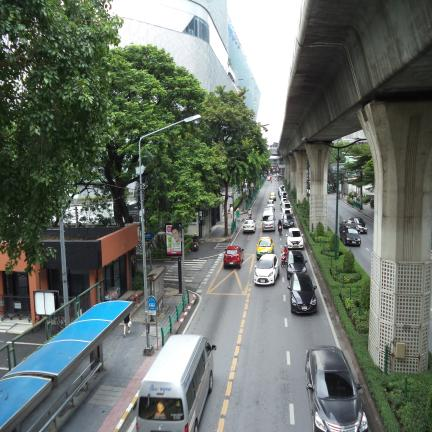car: (305, 346, 368, 432), (288, 272, 317, 313), (254, 254, 279, 285), (287, 250, 307, 279), (223, 246, 244, 268), (286, 228, 303, 249), (350, 217, 368, 233), (243, 219, 256, 233), (282, 213, 294, 228), (281, 201, 292, 214), (280, 201, 292, 212), (266, 200, 274, 211), (281, 191, 287, 198)
human: (124, 314, 131, 337), (192, 232, 199, 242), (283, 244, 289, 254), (248, 208, 252, 218), (278, 218, 282, 228)
motorbike: (281, 252, 287, 267), (193, 240, 199, 252), (278, 225, 282, 235), (248, 210, 252, 219)
pickup: (339, 220, 361, 246)
taxi: (256, 237, 274, 259), (270, 192, 276, 200)
van: (137, 335, 216, 432), (262, 208, 275, 231)
